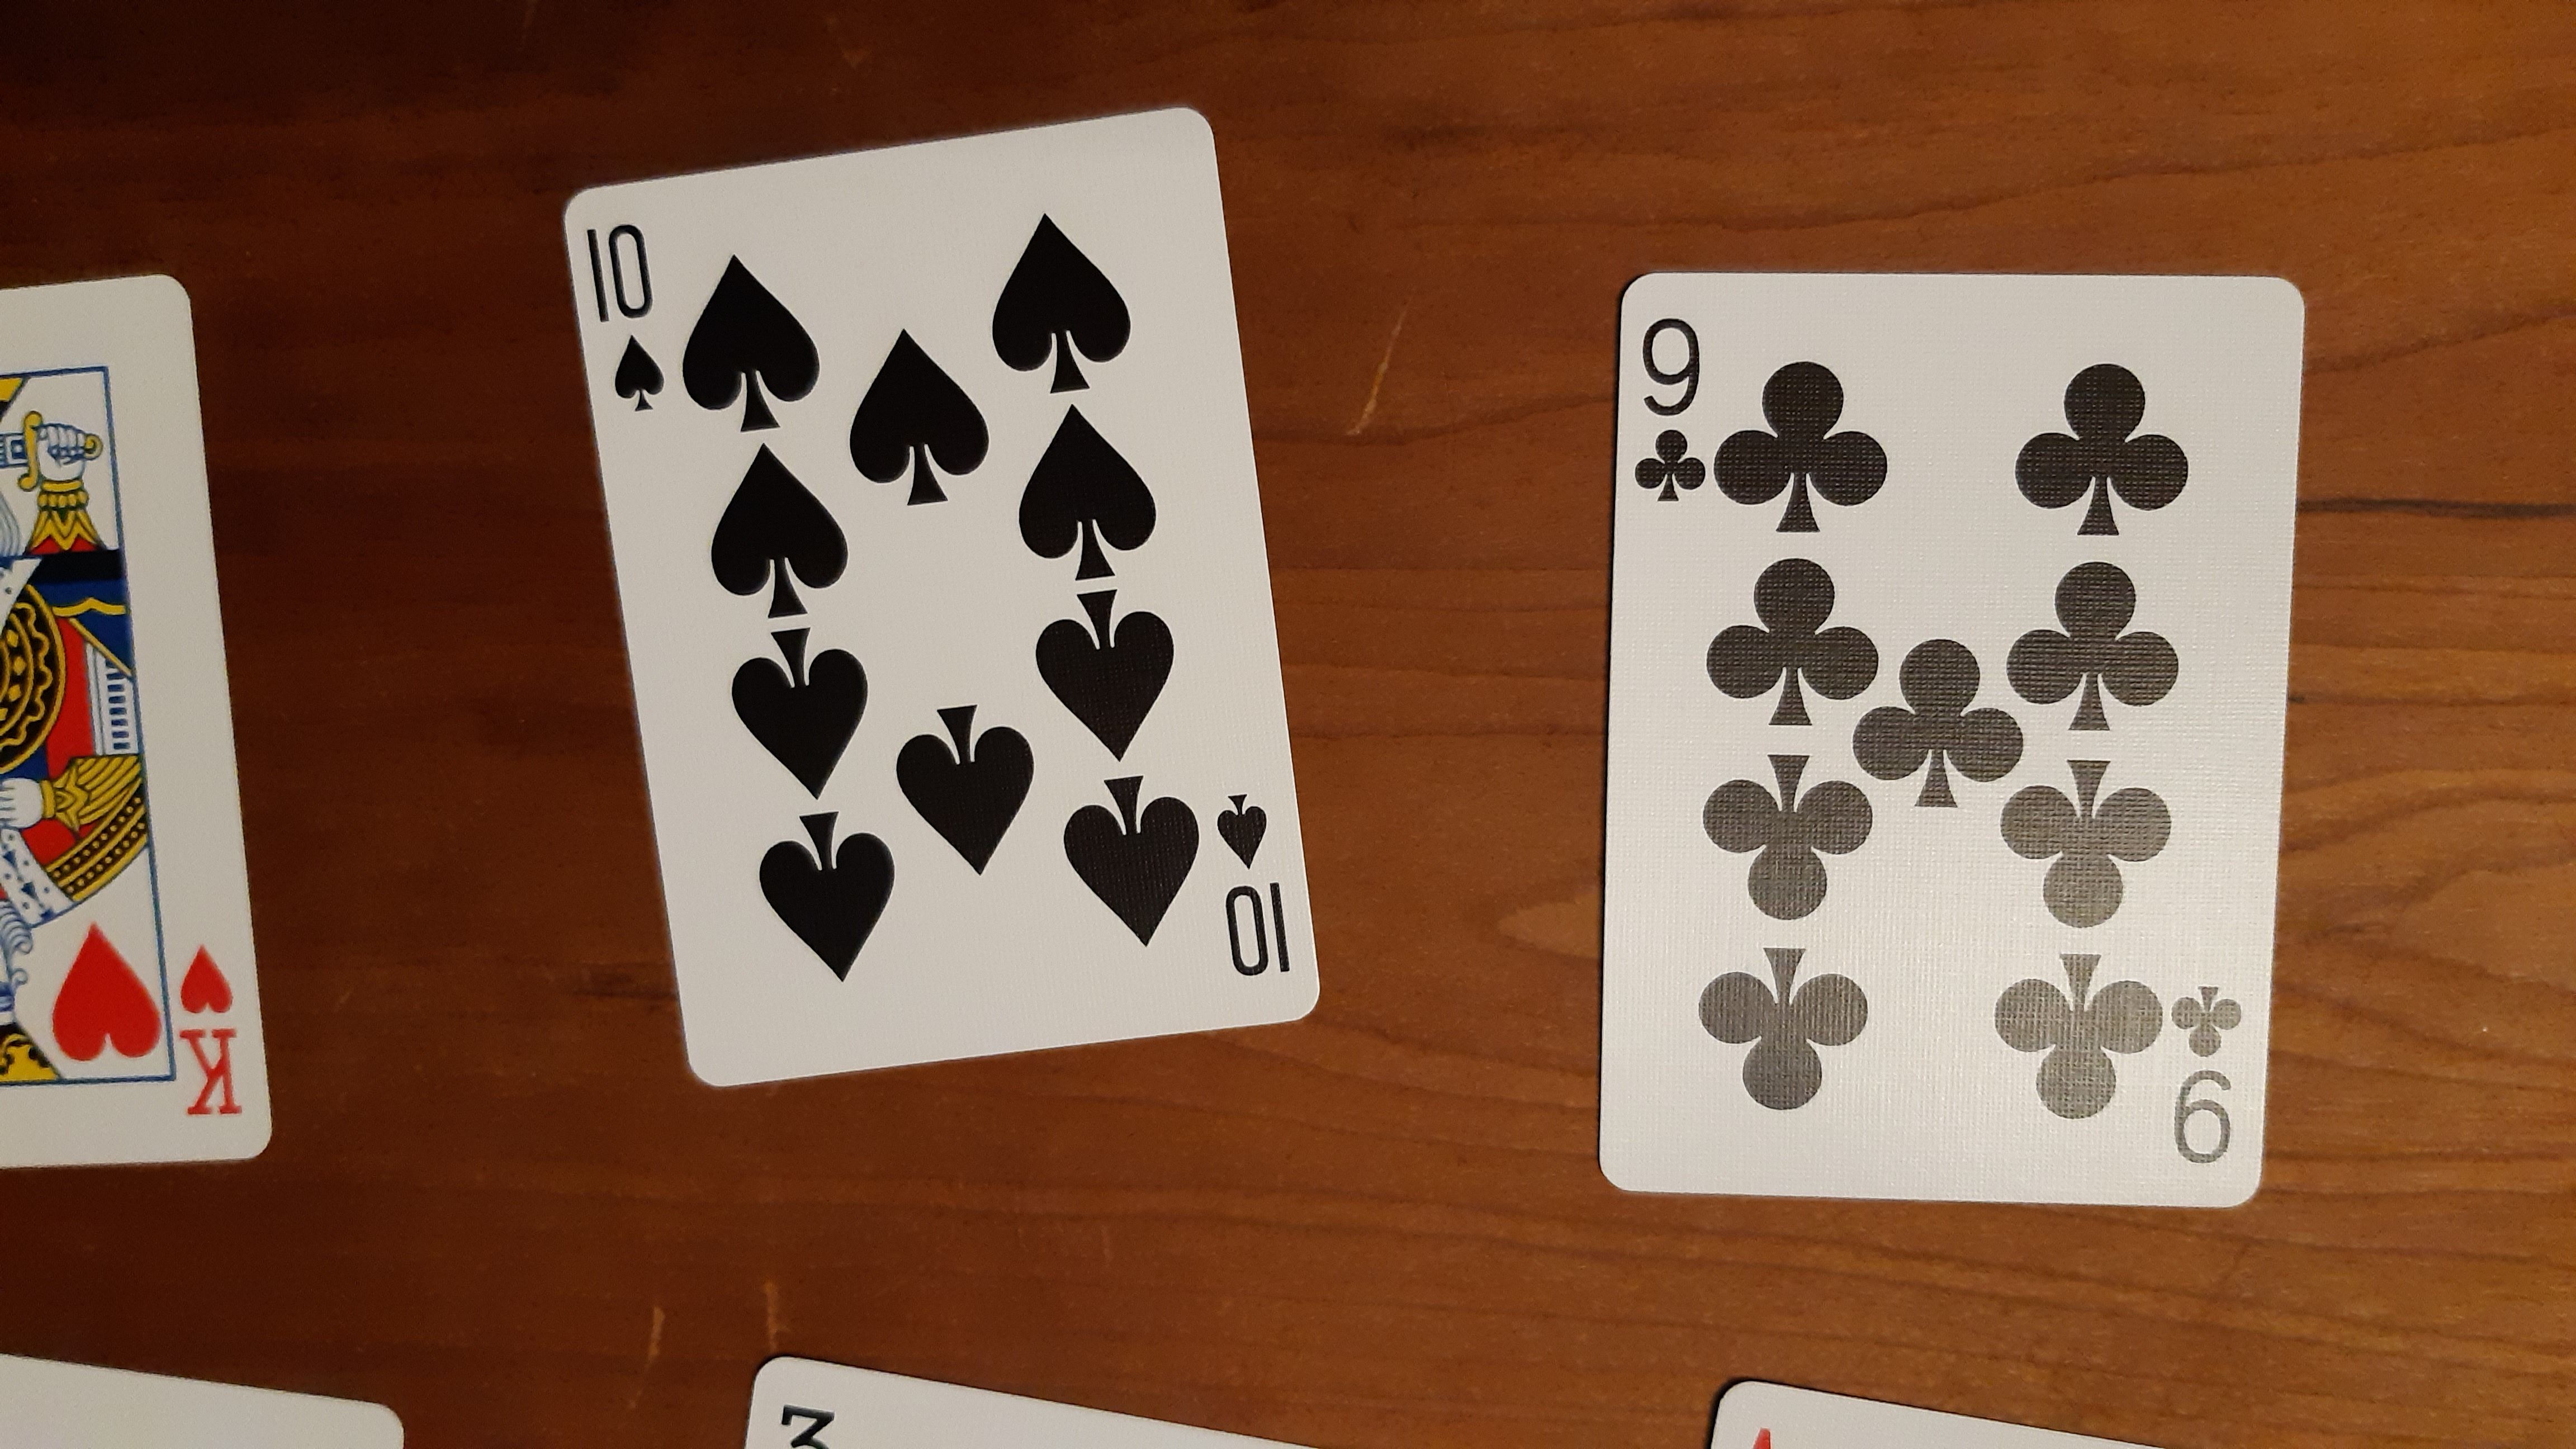Black_Club_9: (1633, 301, 2249, 1171)
Black_Spade_10: (573, 203, 681, 419), (1208, 780, 1302, 985)
Red_Heart_King: (165, 936, 244, 1123)
